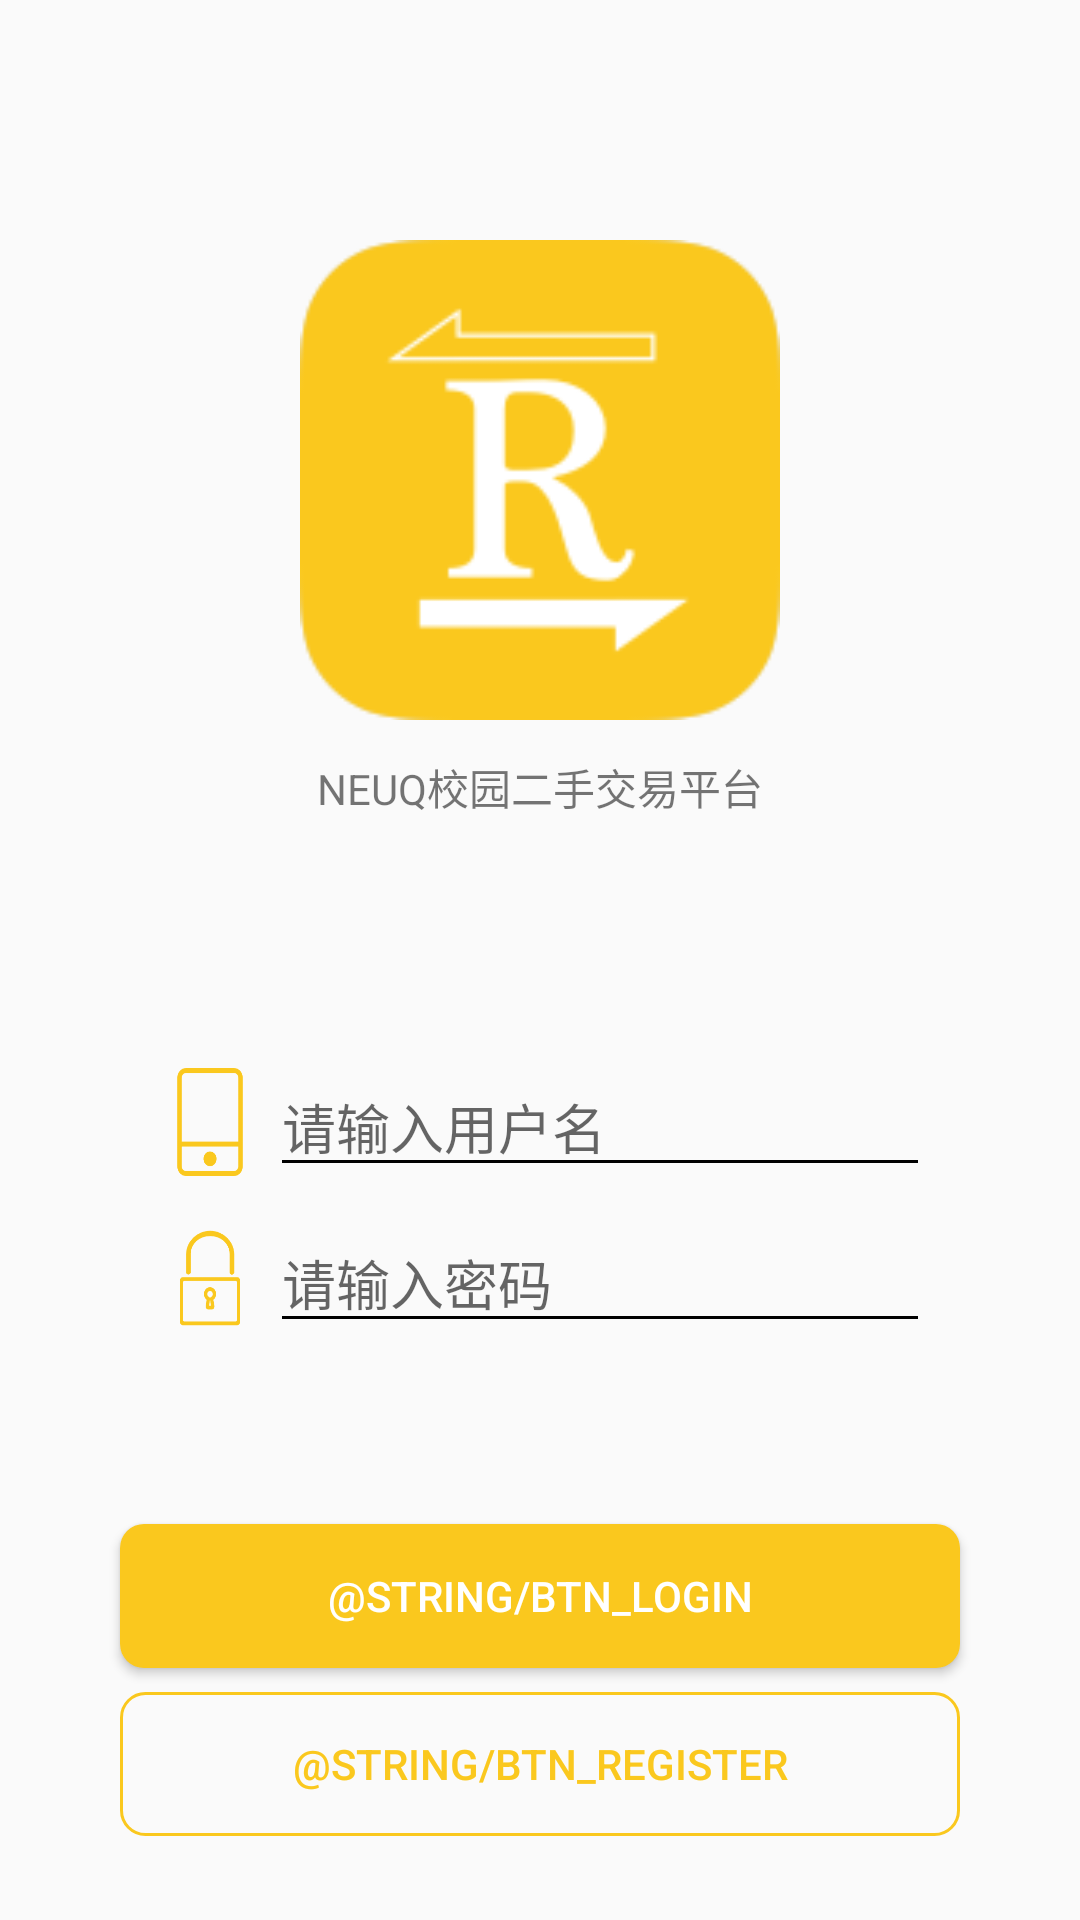

Icons on this 1080px x 1920px Android screen, each with its box as (x1, y1, x2, y2):
lock: (180, 1230, 240, 1326)
phone: (177, 1068, 243, 1176)
